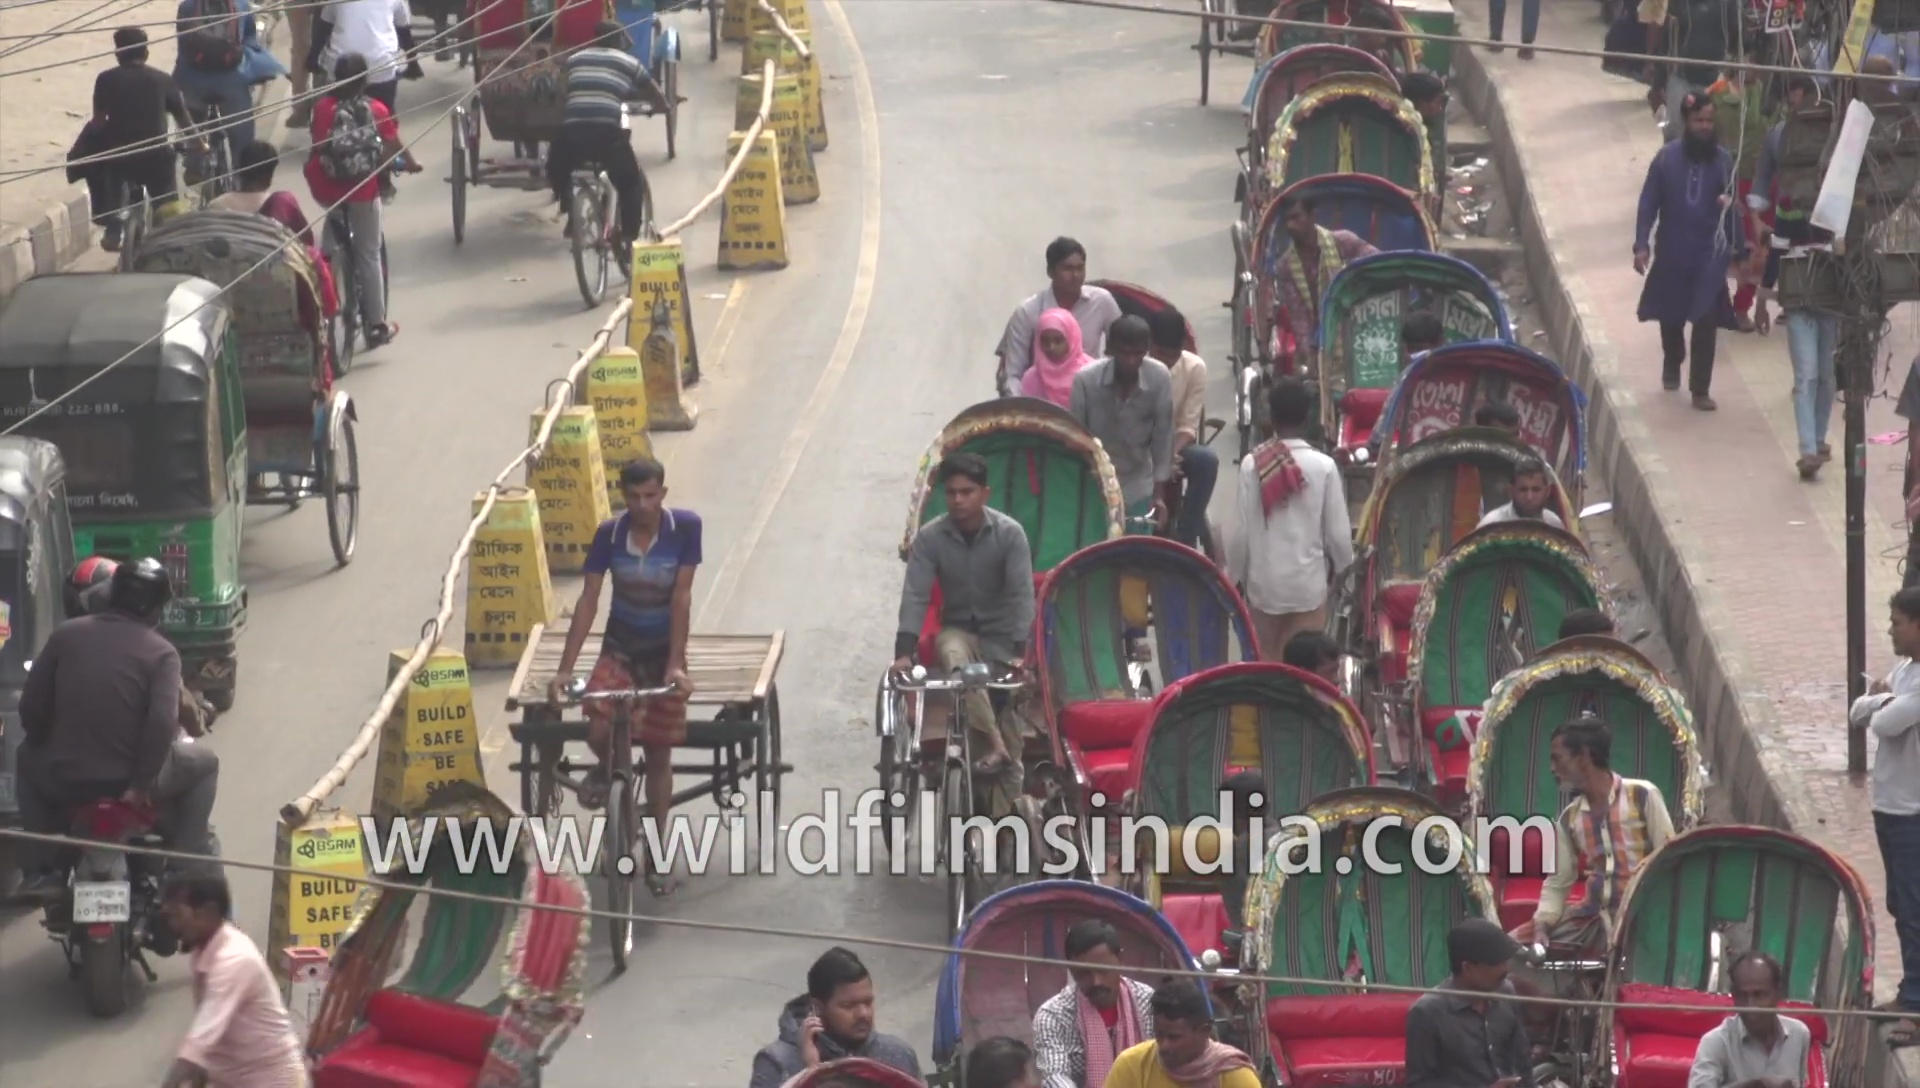5: (500, 611, 803, 950)
bicycle: (1, 550, 233, 1019)
bus: (1, 255, 310, 698)
